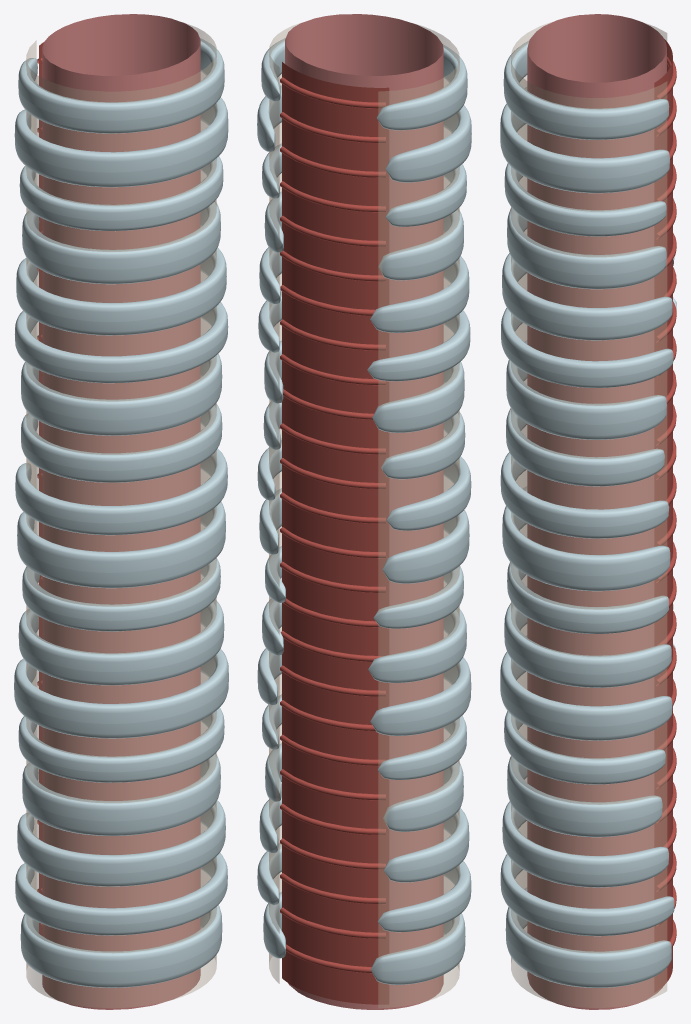
File: traquea.glb
3 renders of one model, left to right at view 1: azimuth 30°, elevation 25°; view 2: azimuth 150°, elevation 25°; view 3: azimuth 270°, elevation 25°, orthographic.
Parts seen in each view (by area): view 1: annular_ligament, tracheal_mucosa, ring_13, ring_2, ring_10, ring_18, ring_7, ring_5, ring_1, ring_15, ring_12, ring_4 (+9 smaller); view 2: trachealis, annular_ligament, tracheal_mucosa, trachealis_fibers, ring_13, ring_18, ring_5, ring_12, ring_1, ring_10, ring_2, ring_7 (+10 smaller); view 3: annular_ligament, tracheal_mucosa, trachealis, ring_10, ring_13, ring_2, ring_18, ring_7, ring_5, ring_1, ring_12, ring_4 (+10 smaller).
Part boxes in pixels (x1,y1,x2,y2): annular_ligament: (26,23,216,1007); tracheal_mucosa: (42,14,200,1009); ring_13: (14,649,228,738); ring_2: (14,97,228,187); ring_10: (17,501,225,588); ring_18: (20,905,222,987); ring_7: (21,353,222,435); ring_5: (16,248,226,335); ring_1: (18,38,224,133); ring_15: (22,753,220,835); ring_12: (18,599,224,685); ring_4: (22,201,220,284); trachealis: (282,62,389,1004); annular_ligament: (269,23,459,1007); tracheal_mucosa: (285,14,443,1009); trachealis_fibers: (280,77,385,973); ring_13: (257,648,471,735); ring_18: (263,892,465,984); ring_5: (259,247,469,332); ring_12: (262,599,466,683); ring_1: (261,38,467,130); ring_10: (259,488,469,583); ring_2: (257,85,471,182); ring_7: (264,340,464,432); annular_ligament: (511,22,666,1007); tracheal_mucosa: (527,14,666,1009); trachealis: (654,39,672,992); ring_10: (502,486,670,591); ring_13: (500,635,675,740); ring_2: (500,87,670,193); ring_18: (505,888,671,987); ring_7: (506,341,666,439); ring_5: (502,253,674,340); ring_1: (503,41,669,139); ring_12: (504,603,673,687); ring_4: (507,208,666,289).
Size of the model in its own units: 0.0231 by 0.108 by 0.0186.
